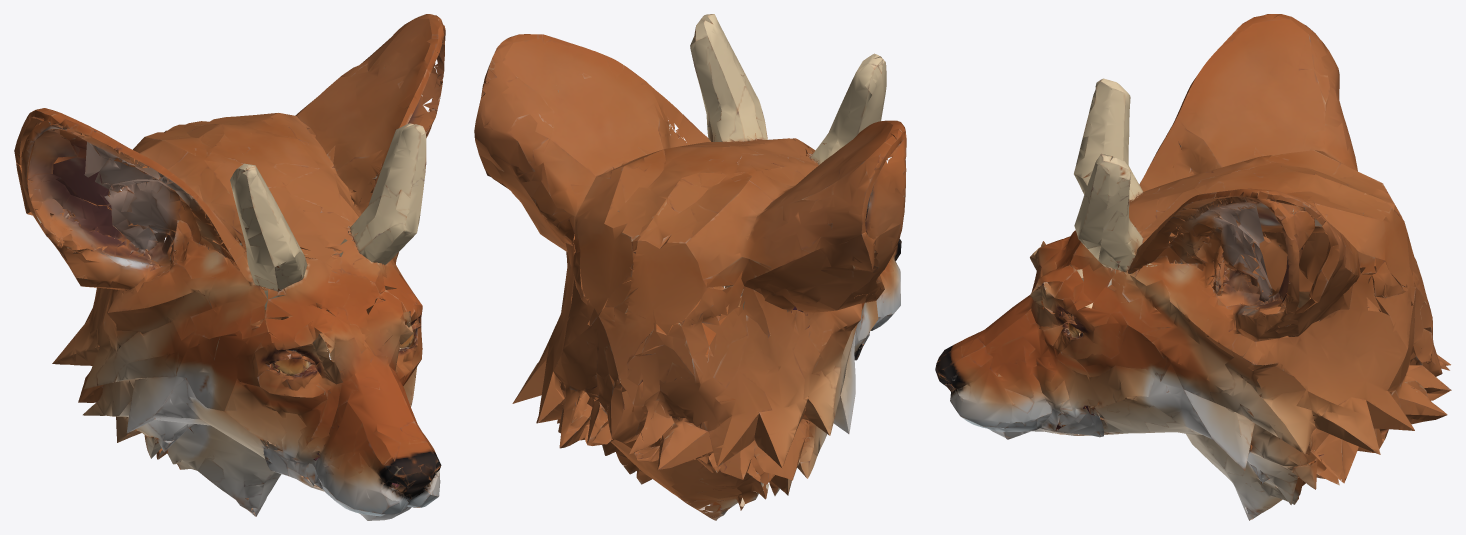
The picture shows the model from 3 angles, left to right: view 1: azimuth 30°, elevation 25°; view 2: azimuth 150°, elevation 25°; view 3: azimuth 270°, elevation 25°; orthographic projection. The views are drawn at different scales.
Parts seen in each view (by area): view 1: world; view 2: world; view 3: world.
Boxes of the visible parts, x1,y1,x2,y2 form: world: [14, 14, 445, 520]; world: [474, 14, 906, 520]; world: [935, 14, 1451, 520].
Size of the model in its own units: 0.8879 by 0.8928 by 0.9997.
Materials: 1 (1 with a texture image).
